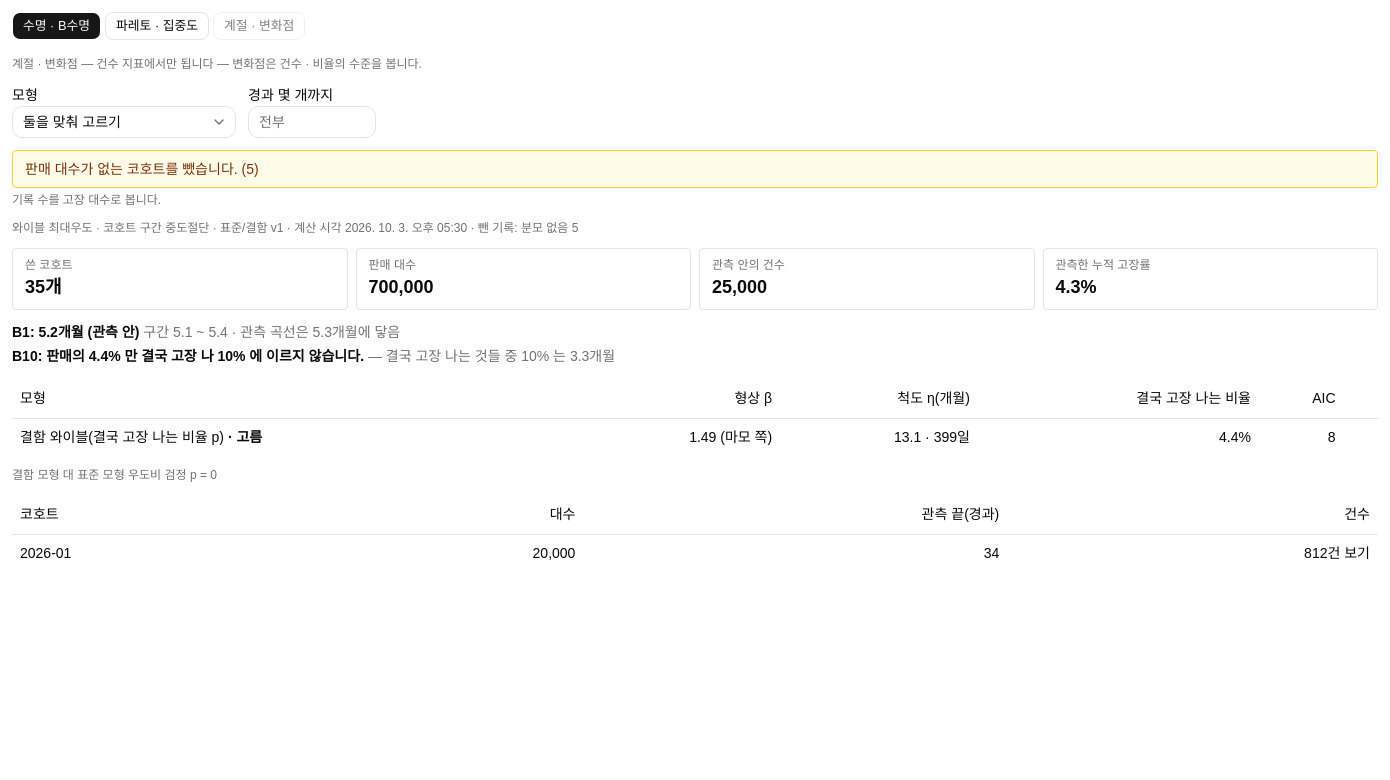
분석 탭 › 파레토를 고르면 몫과 건 보기를 보인다
The image size is (1390, 780).
Click the button "파레토 · 집중도": (157, 26) [105,12,209,40]
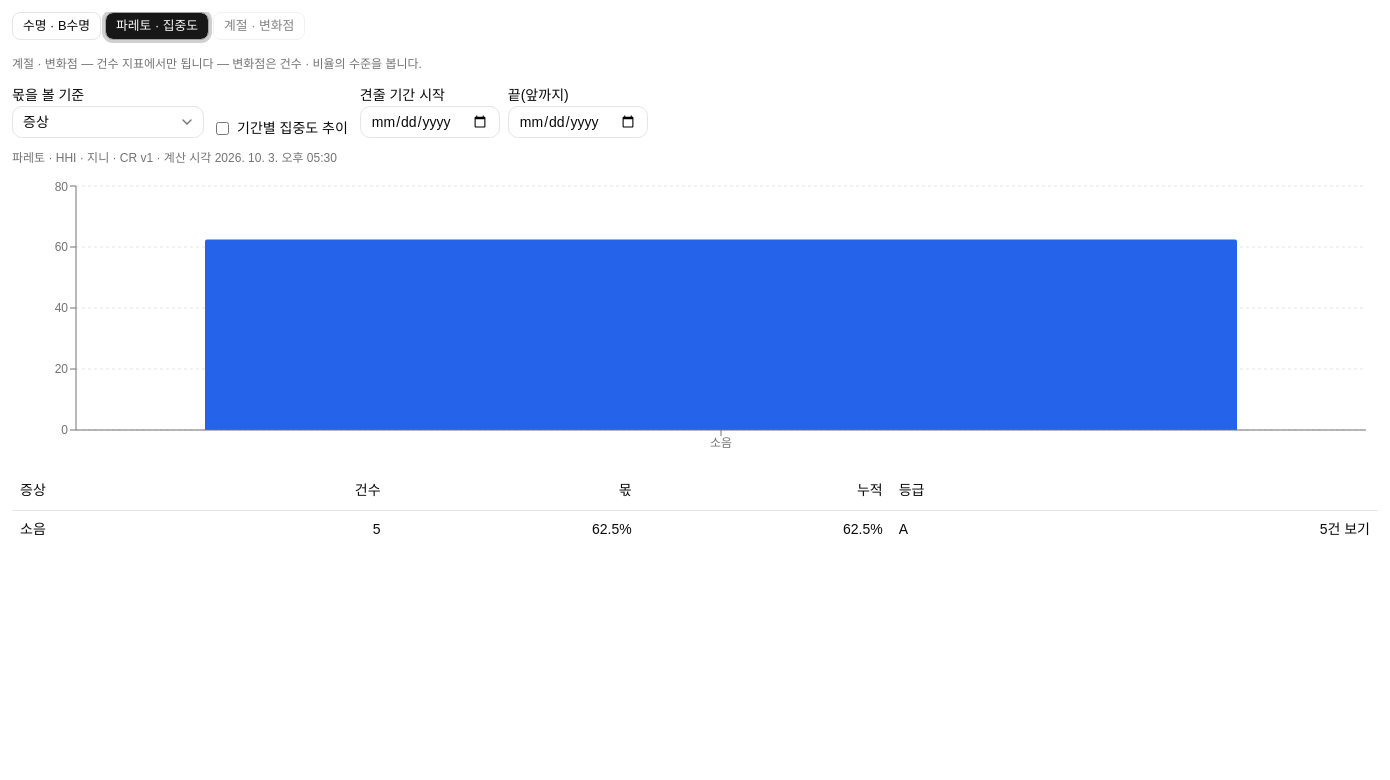
Expected: the 1st text "62.5%" is shown, [388,510,640,546]
